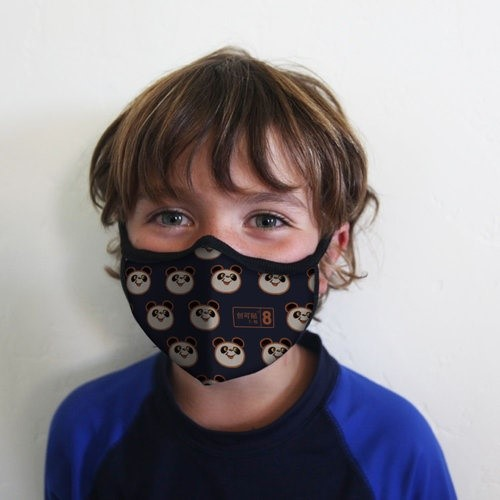face_with_mask: (112, 67, 351, 388)
